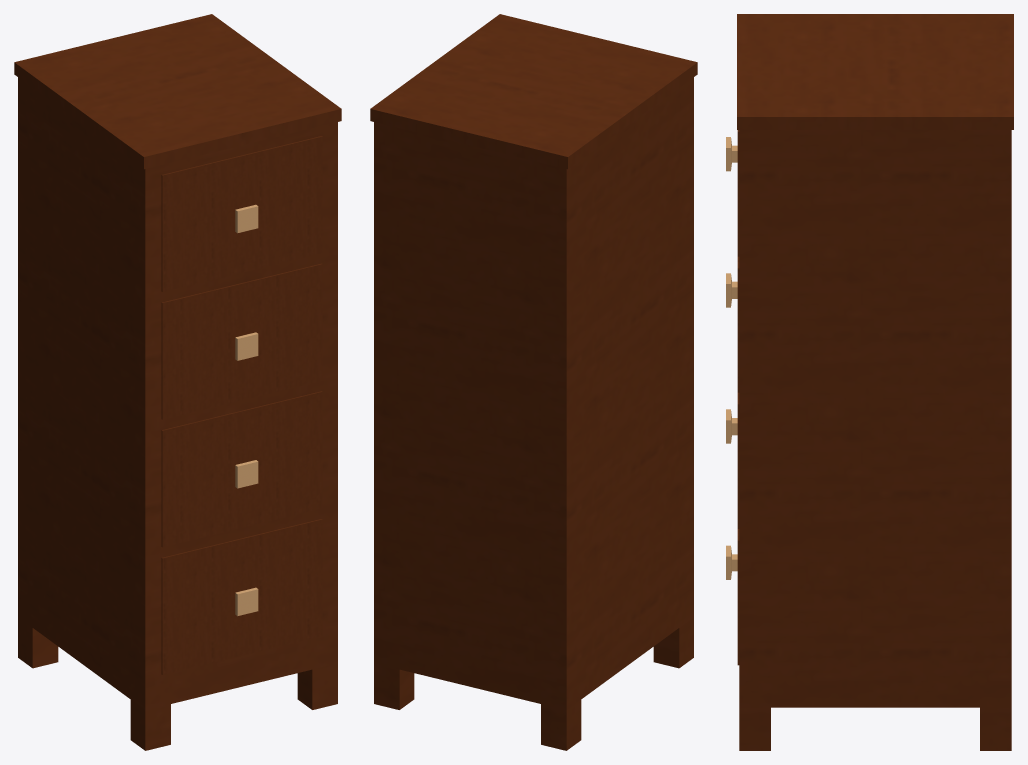
The model's file is Drawer49.fbx.
3 views of the same model, side by side, from view 1: azimuth 30°, elevation 25°; view 2: azimuth 150°, elevation 25°; view 3: azimuth 270°, elevation 25° (orthographic). The views are drawn at different scales.
Visible parts, largest first — view 1: Drawer49_Body, Drawer49_3, Drawer49_1, Drawer49_2, Drawer49_4; view 2: Drawer49_Body; view 3: Drawer49_Body, Drawer49_4, Drawer49_2, Drawer49_3, Drawer49_1.
Part boxes in pixels (x1=…): Drawer49_Body: x1=14, y1=14, x2=341, y2=750; Drawer49_3: x1=161, y1=391, x2=322, y2=547; Drawer49_1: x1=161, y1=136, x2=322, y2=291; Drawer49_2: x1=161, y1=263, x2=322, y2=419; Drawer49_4: x1=161, y1=519, x2=322, y2=674; Drawer49_Body: x1=370, y1=14, x2=697, y2=750; Drawer49_Body: x1=737, y1=14, x2=1013, y2=750; Drawer49_4: x1=726, y1=529, x2=739, y2=665; Drawer49_2: x1=726, y1=256, x2=739, y2=392; Drawer49_3: x1=726, y1=392, x2=739, y2=528; Drawer49_1: x1=726, y1=130, x2=739, y2=256.
Bounding box in the file's own units: 37.46 × 108 × 44.22.
